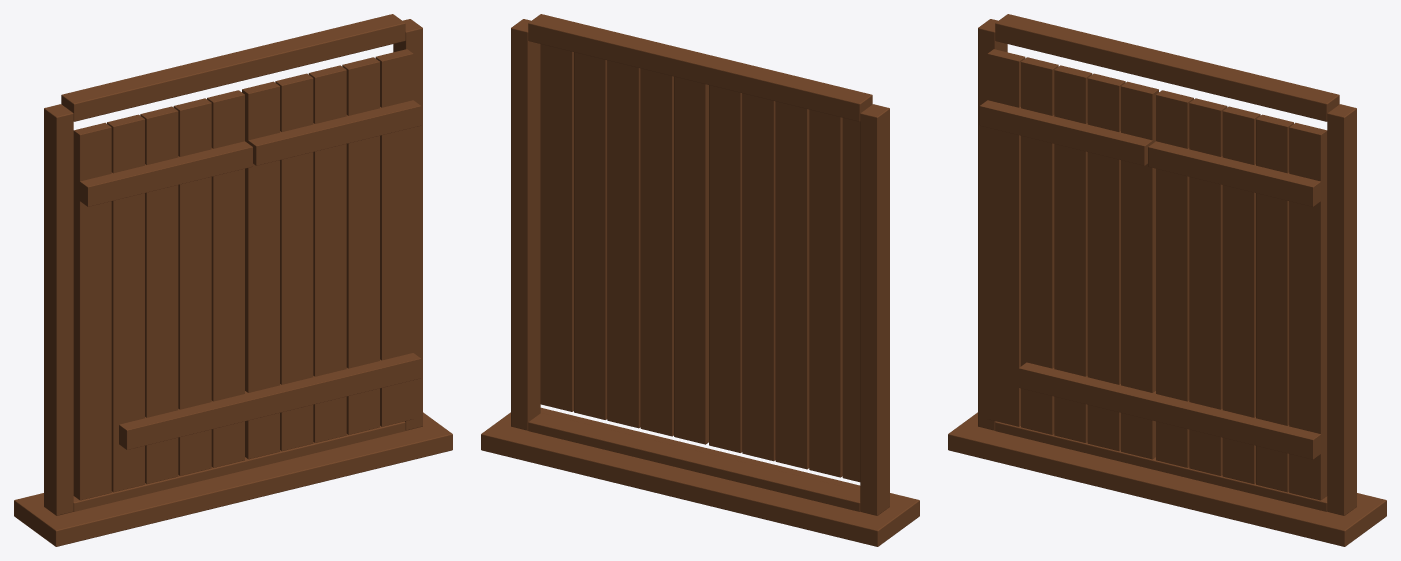
File: source-edit.glb
3 renders of one model, left to right at view 1: azimuth 30°, elevation 25°; view 2: azimuth 150°, elevation 25°; view 3: azimuth 330°, elevation 25°, orthographic.
Parts seen in each view (by area): view 1: Sill, Plank, Outer_Frame_Stile, Plank.009, Plank.001, Plank.008, Plank.003, Plank.007, Plank.002, Plank.005, Plank.004, Plank.006 (+7 smaller); view 2: Sill, Plank.002, Plank.009, Plank.007, Plank.008, Plank.001, Plank.005, Plank.003, Plank.004, Plank.006, Outer_Frame_Stile, Outer_Frame_Stile.001 (+3 smaller); view 3: Sill, Plank.005, Outer_Frame_Stile.001, Plank, Plank.004, Plank.001, Plank.003, Plank.002, Plank.008, Plank.007, Plank.006, Plank.009 (+7 smaller).
Boxes of the visible parts, <box> form: Sill: <box>14,412,452,546</box>; Plank: <box>73,122,111,500</box>; Outer_Frame_Stile: <box>44,104,73,515</box>; Plank.009: <box>242,81,279,459</box>; Plank.001: <box>107,114,144,492</box>; Plank.008: <box>275,73,313,450</box>; Plank.003: <box>173,98,211,475</box>; Plank.007: <box>308,65,346,442</box>; Plank.002: <box>140,106,178,483</box>; Plank.005: <box>375,49,413,426</box>; Plank.004: <box>207,90,244,467</box>; Plank.006: <box>342,57,379,434</box>; Sill: <box>481,407,919,546</box>; Plank.002: <box>775,101,809,469</box>; Plank.009: <box>674,76,708,444</box>; Plank.007: <box>607,60,640,428</box>; Plank.008: <box>640,68,673,436</box>; Plank.001: <box>809,109,842,477</box>; Plank.005: <box>540,44,573,411</box>; Plank.003: <box>742,93,775,461</box>; Plank.004: <box>709,85,742,452</box>; Plank.006: <box>574,52,607,419</box>; Outer_Frame_Stile: <box>860,104,889,515</box>; Outer_Frame_Stile.001: <box>511,19,540,430</box>; Sill: <box>948,412,1386,546</box>; Plank.005: <box>1289,122,1327,500</box>; Outer_Frame_Stile.001: <box>1327,104,1356,515</box>; Plank: <box>987,49,1025,426</box>; Plank.004: <box>1121,81,1158,459</box>; Plank.001: <box>1021,57,1058,434</box>; Plank.003: <box>1087,73,1125,450</box>; Plank.002: <box>1054,65,1092,442</box>; Plank.008: <box>1189,98,1227,475</box>; Plank.007: <box>1222,106,1260,483</box>; Plank.006: <box>1256,114,1293,492</box>; Plank.009: <box>1156,90,1193,467</box>.
Size of the model in its own units: 1.25 by 1.28 by 0.23.
